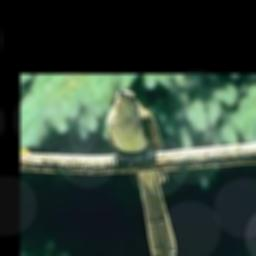Cuckoo: (105, 90, 176, 256)
